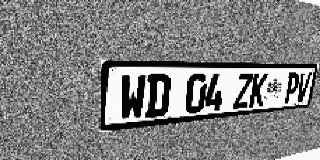0: (184, 74, 208, 114)
4: (204, 73, 226, 112)
D: (145, 74, 171, 118)
K: (248, 73, 268, 107)
P: (283, 73, 301, 104)
V: (295, 73, 312, 103)
W: (119, 74, 147, 121)
Z: (233, 73, 254, 109)
